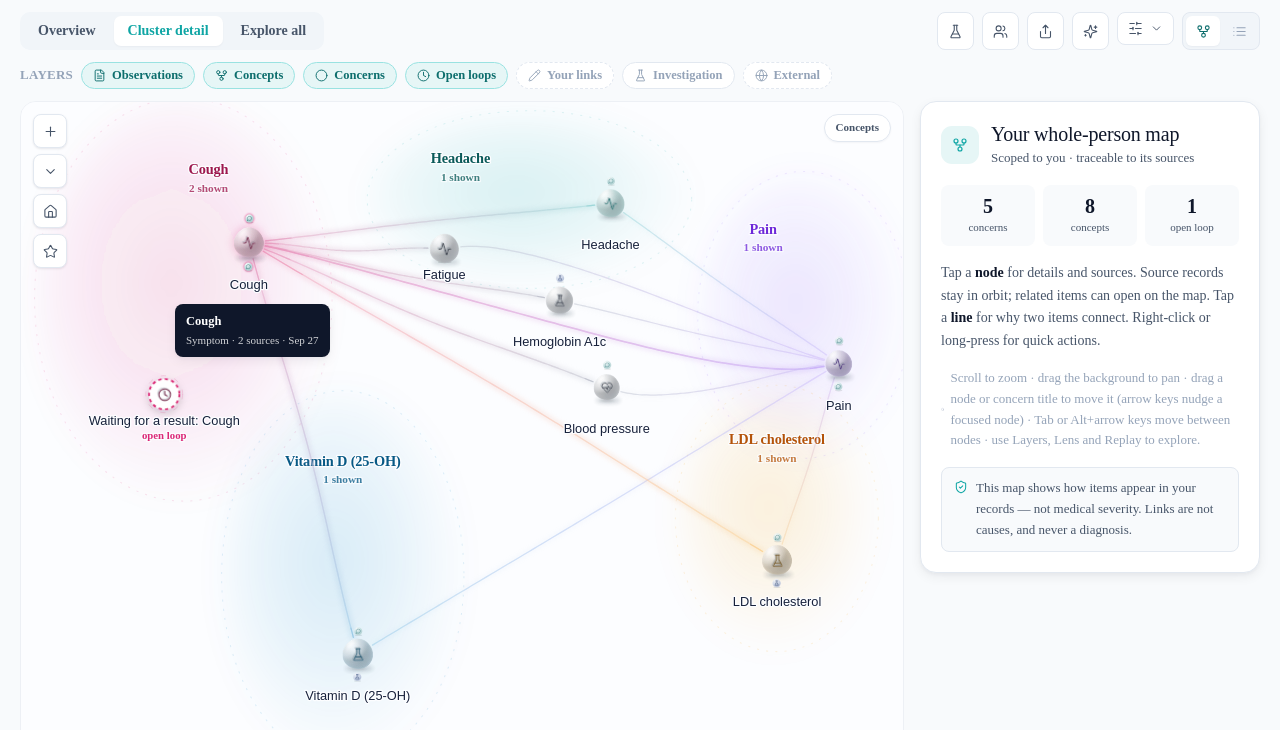
Test: GraphLive on the person's real data › explains a link from the keyboard, with sources and the non-diagnostic caveat
Step 1. Press Enter
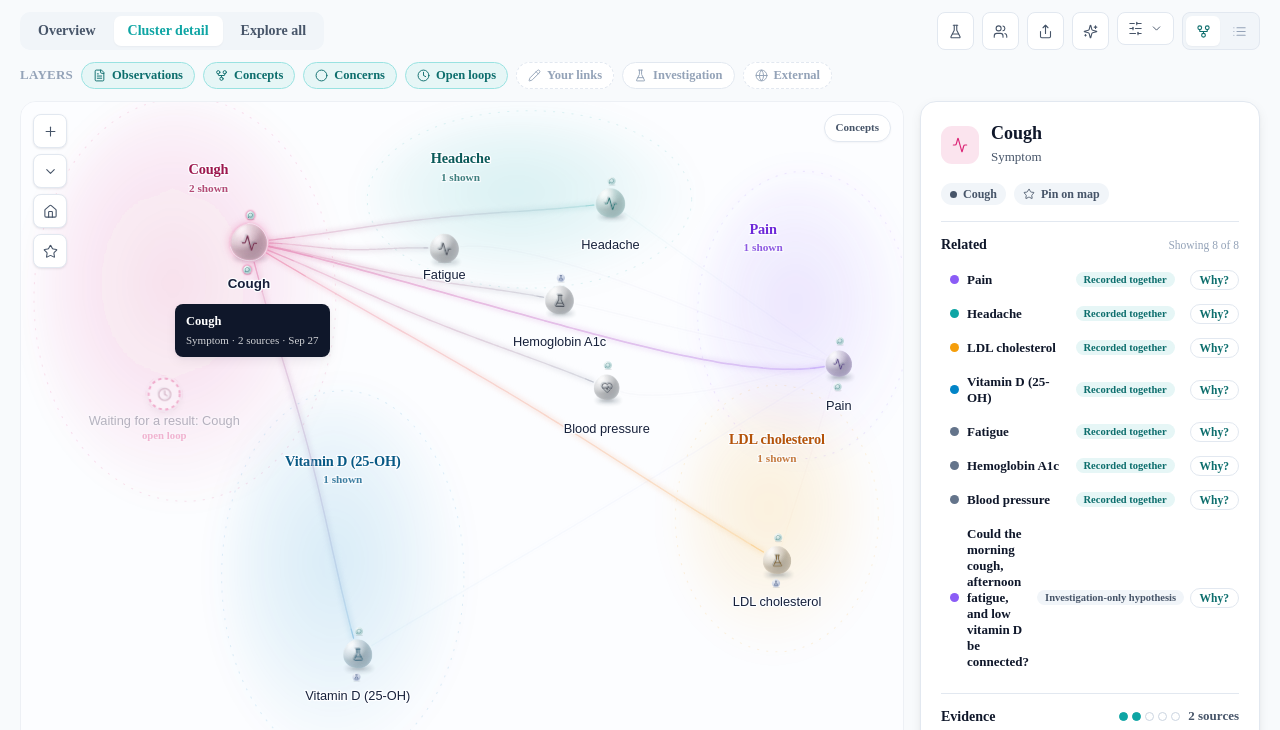
Step 2. Click the button with aria-label "Why is Cough connected to Pain?" → (1214, 280), box [1190,270,1239,290]
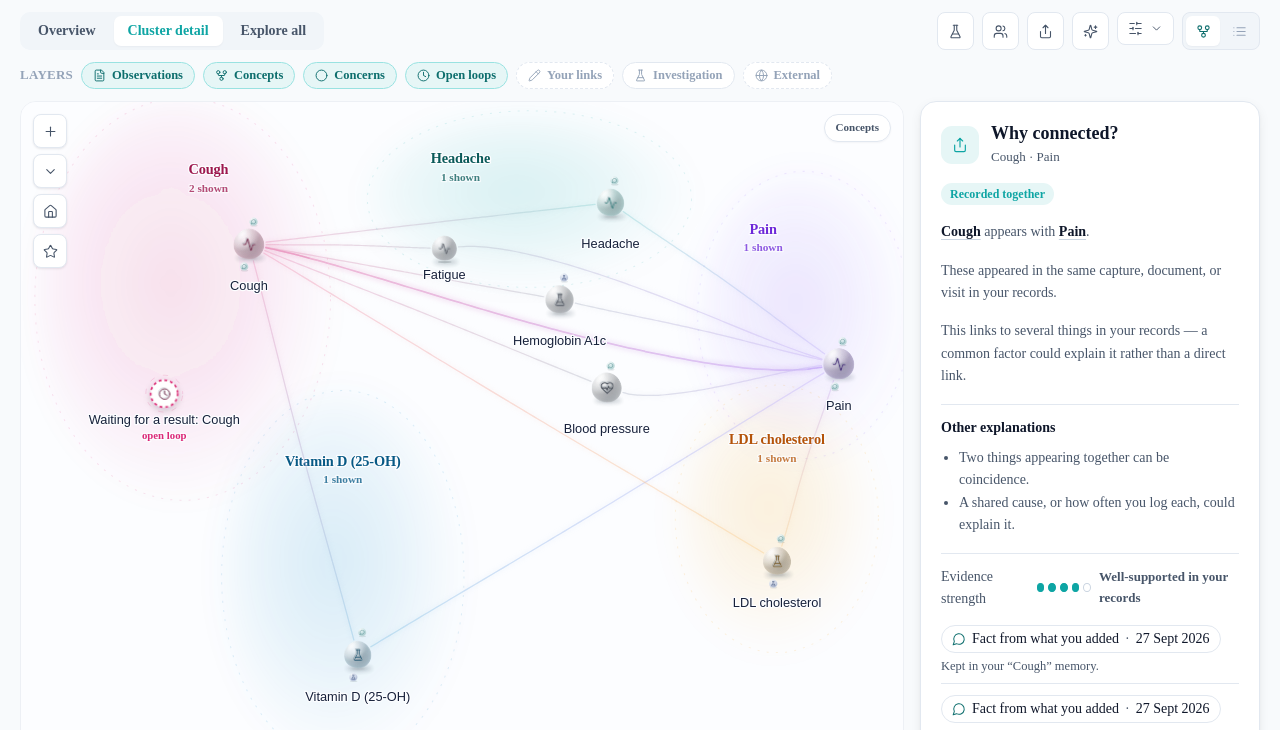
Check: the 1st button "Fact from what you added · 27 Sept 2026" is shown, box [941,625,1220,653]
Check: the text "Why connected?" is shown, box [991,122,1118,144]
Check: the list item "Two things appearing together can be coincidence." is shown, box [959,450,1169,487]
